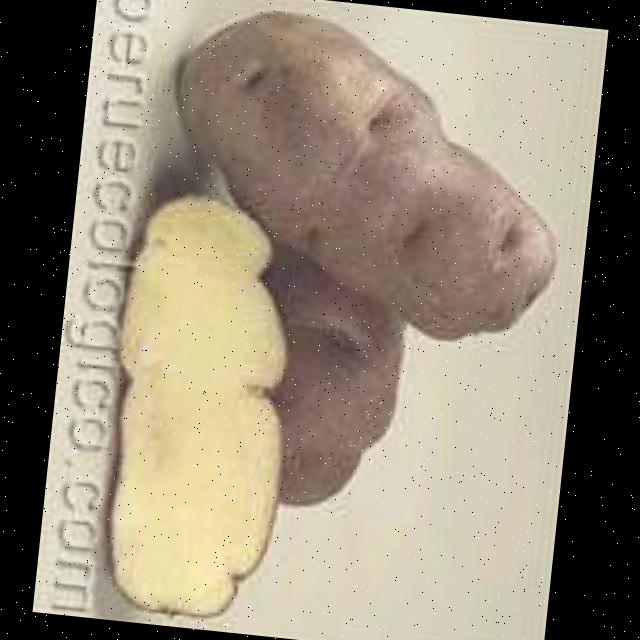Damaged potato: (146, 2, 584, 360)
